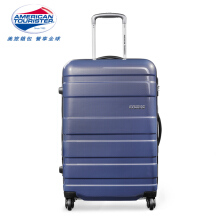luggage: (59, 13, 163, 213)
